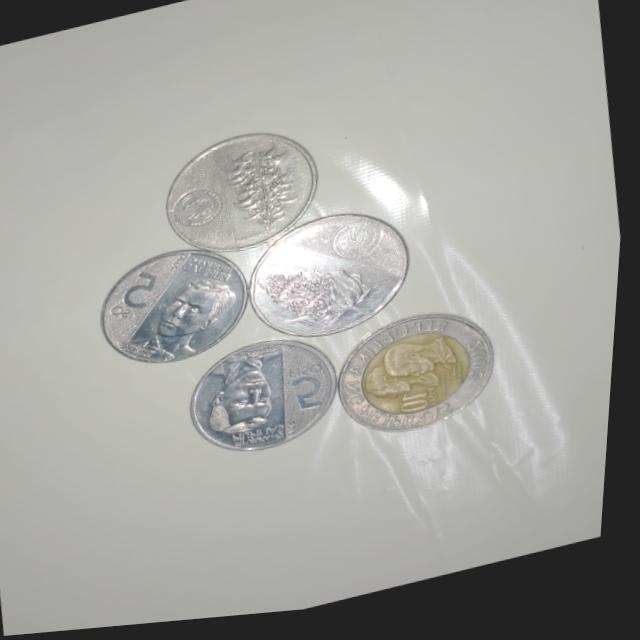10_New_Back: (256, 220, 400, 354)
10_Old_Front: (339, 317, 504, 454)
5_New_Front: (102, 242, 254, 377), (195, 337, 337, 468)
